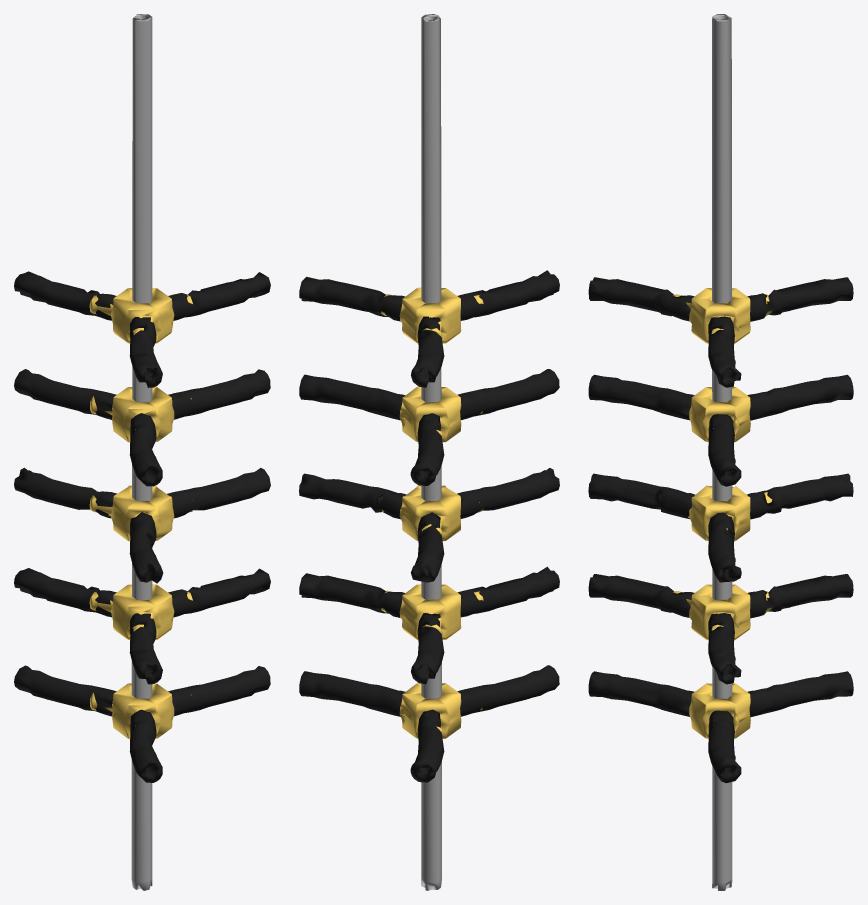
3 renders of one model, left to right at view 1: azimuth 30°, elevation 25°; view 2: azimuth 150°, elevation 25°; view 3: azimuth 270°, elevation 25°, orthographic.
Bounding box in the file's own units: 0.0817 × 0.3519 × 0.0972.
